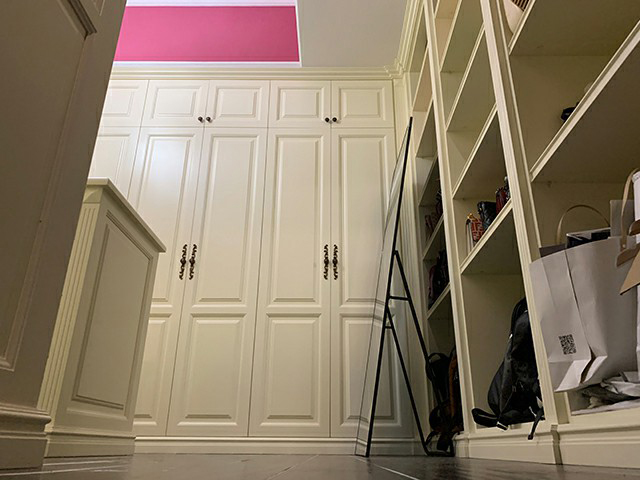cabinet: (89, 1, 640, 467), (37, 175, 166, 461)
